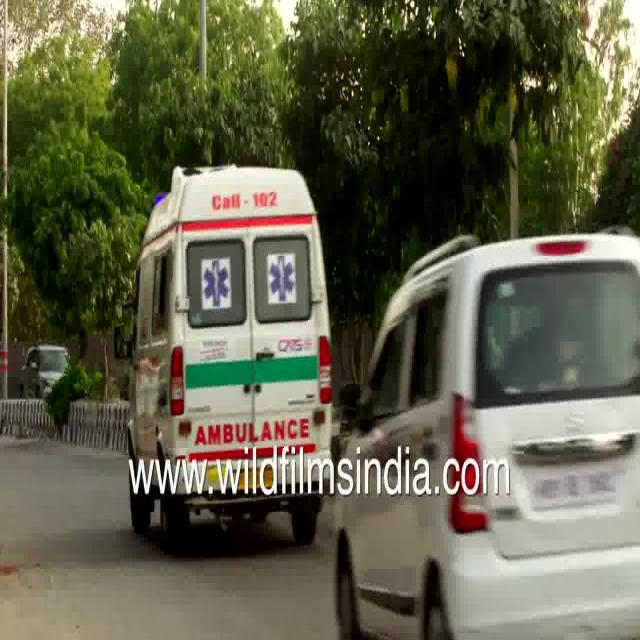ambulance: (120, 152, 341, 441)
